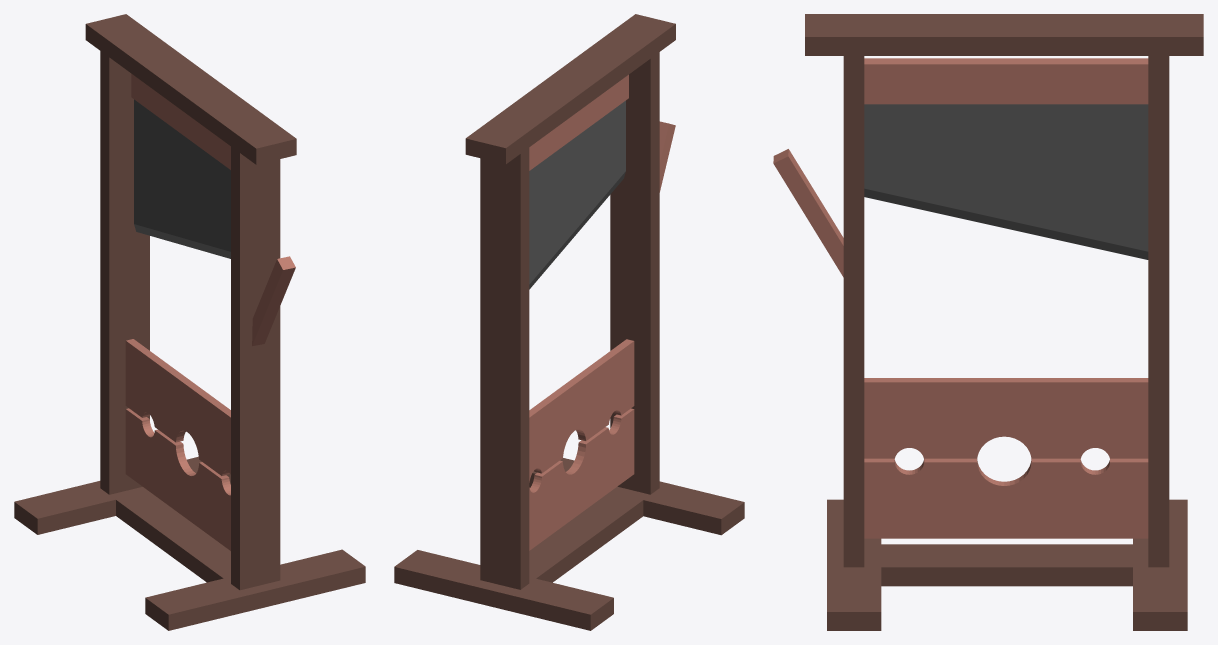
The model's file is Guillotine.fbx.
The picture shows the model from 3 angles, left to right: view 1: azimuth 30°, elevation 25°; view 2: azimuth 150°, elevation 25°; view 3: azimuth 270°, elevation 25°; orthographic projection. The views are drawn at different scales.
Visible parts, largest first — view 1: Static Structure, Blade, Top Stock, Lever; view 2: Static Structure, Blade, Top Stock, Lever; view 3: Static Structure, Blade, Top Stock, Lever.
Part boxes in pixels (box(x1,y1,x2,y2)): Static Structure: box(14, 14, 365, 630); Blade: box(131, 74, 230, 258); Top Stock: box(125, 339, 230, 475); Lever: box(252, 256, 295, 346); Static Structure: box(394, 14, 744, 630); Blade: box(529, 74, 628, 289); Top Stock: box(529, 339, 634, 482); Lever: box(659, 121, 675, 192); Static Structure: box(805, 14, 1203, 630); Blade: box(864, 58, 1148, 259); Top Stock: box(864, 378, 1148, 458); Lever: box(773, 149, 843, 277).
Bounding box in the file's own units: 200 × 456 × 323.
